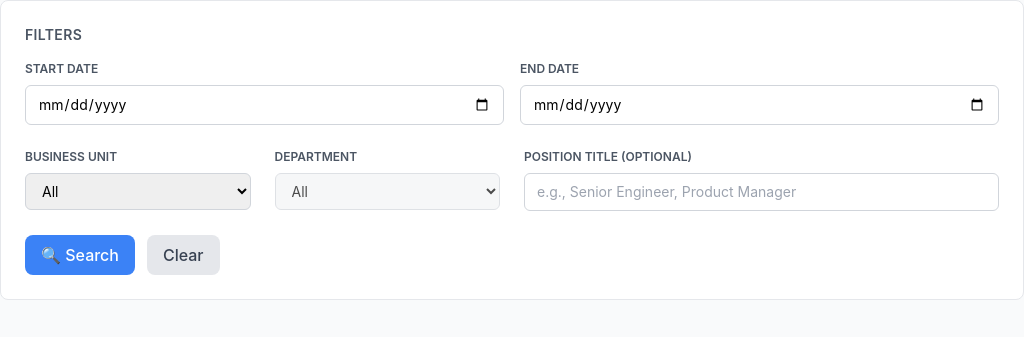
Test: HistoricalTabQueryForm › Validation › should show error when start date is missing
Type "2026-08-31" into the date field labelled "END DATE" at (760,105), box [520,85,999,125]
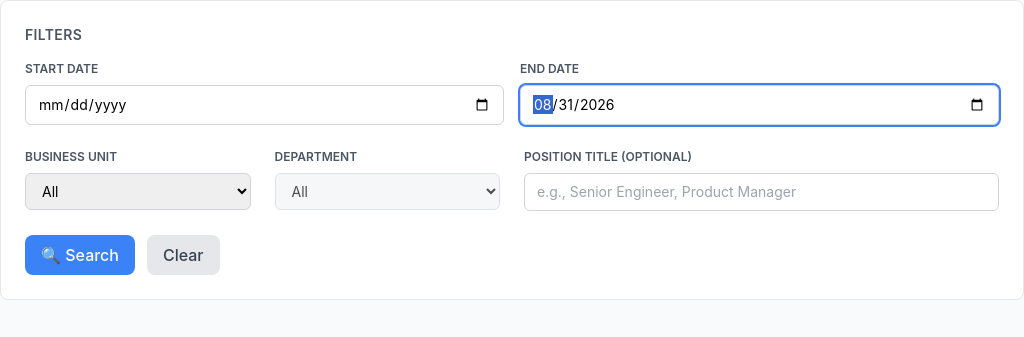
Click the button "🔍 Search" at (80,255), box [25,235,135,275]
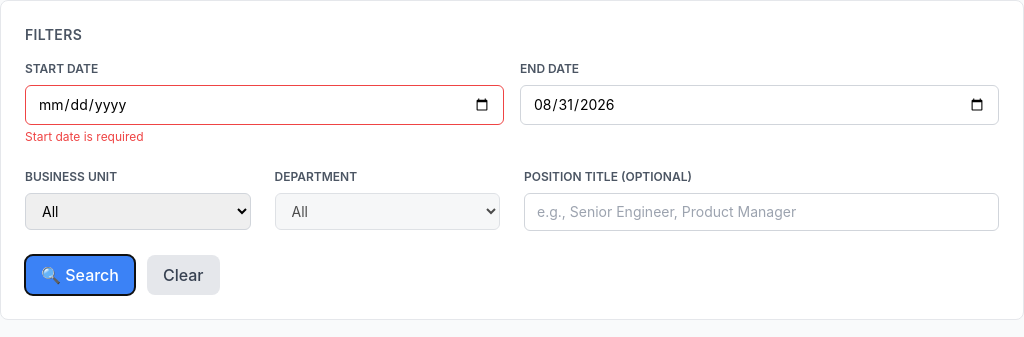
Now the text "Start date is required" is shown, box [25,129,144,144]
